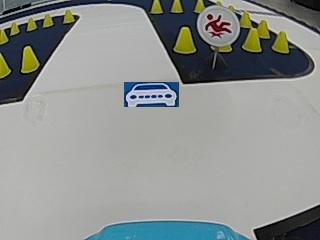cone: (173, 25, 196, 55), (20, 45, 38, 74), (242, 28, 261, 52), (272, 30, 288, 53), (0, 54, 11, 79), (257, 18, 269, 38), (240, 9, 251, 28), (150, 0, 163, 15), (42, 12, 54, 27), (170, 0, 183, 13), (63, 8, 74, 23), (192, 0, 204, 13), (26, 17, 36, 31), (0, 29, 8, 45), (10, 21, 19, 35)
tumble: (202, 10, 236, 41)
